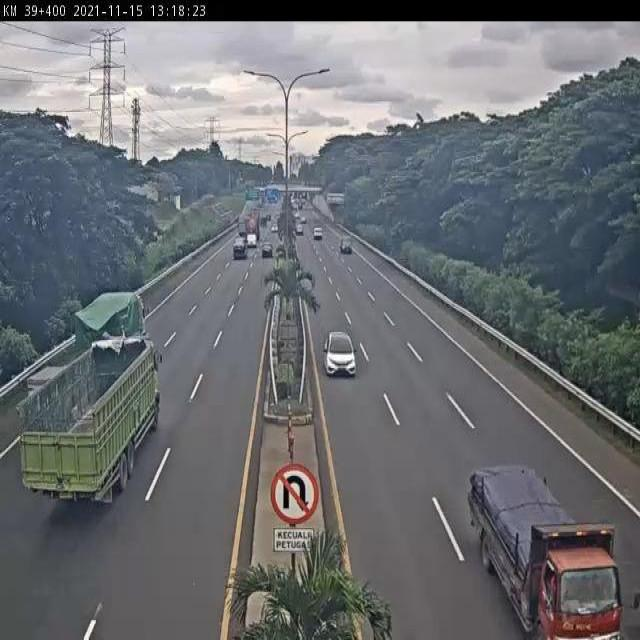car: (323, 332, 358, 379)
truck-l-: (18, 335, 160, 501)
truck-m-: (466, 469, 623, 640), (75, 294, 150, 374)
